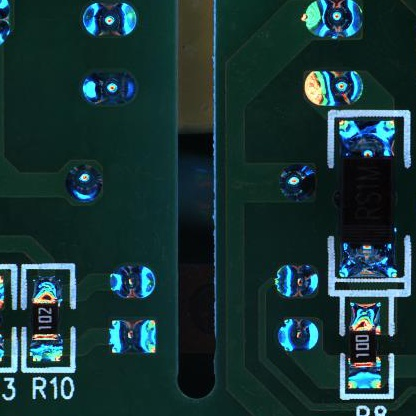spot: (300, 1, 372, 42), (81, 2, 143, 42), (303, 70, 368, 108), (80, 69, 138, 109), (107, 318, 162, 359), (274, 161, 323, 204), (106, 263, 159, 300), (272, 259, 319, 299), (64, 163, 104, 206), (275, 316, 320, 354)
